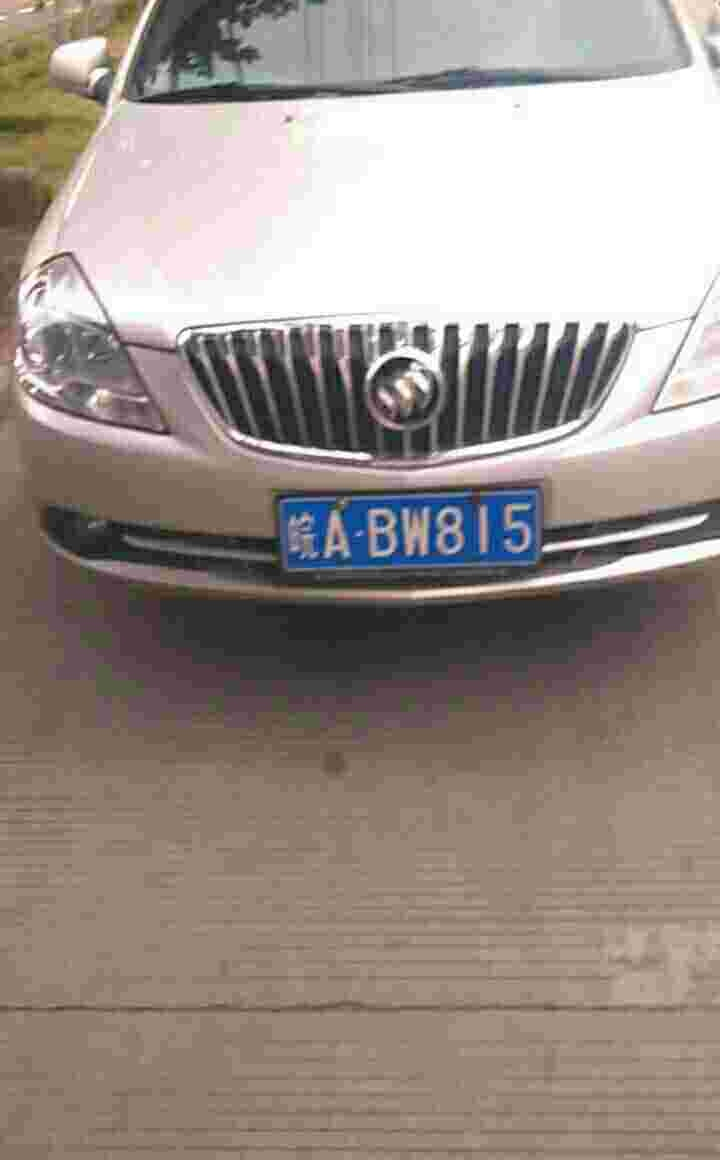plate: (282, 488, 545, 575)
